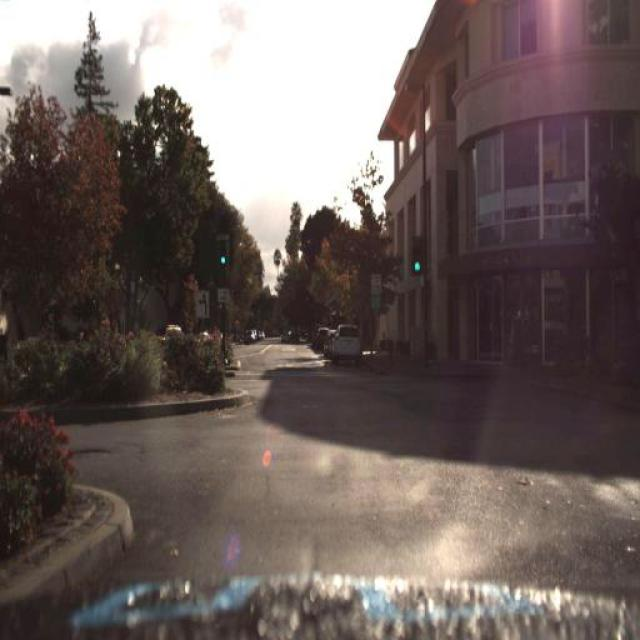semaforo: (410, 234, 426, 276)
